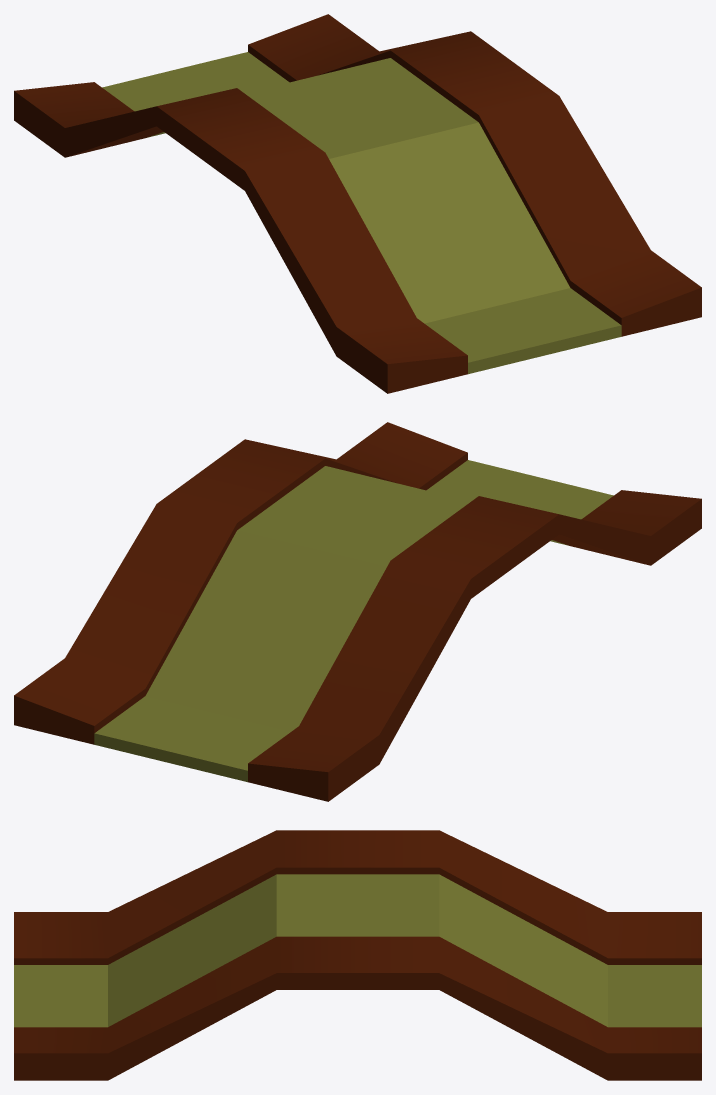
The model's file is Bridge.fbx.
3 views of the same model, one above another, from view 1: azimuth 30°, elevation 25°; view 2: azimuth 150°, elevation 25°; view 3: azimuth 270°, elevation 25° (orthographic). The views are drawn at different scales.
Parts seen in each view (by area): view 1: Bridge; view 2: Bridge; view 3: Bridge.
Boxes of the visible parts, x1,y1,x2,y2 form: Bridge: (14,14,701,393); Bridge: (14,422,701,801); Bridge: (14,830,701,1080).
Size of the model in its own units: 2867 by 1033 by 5901.
